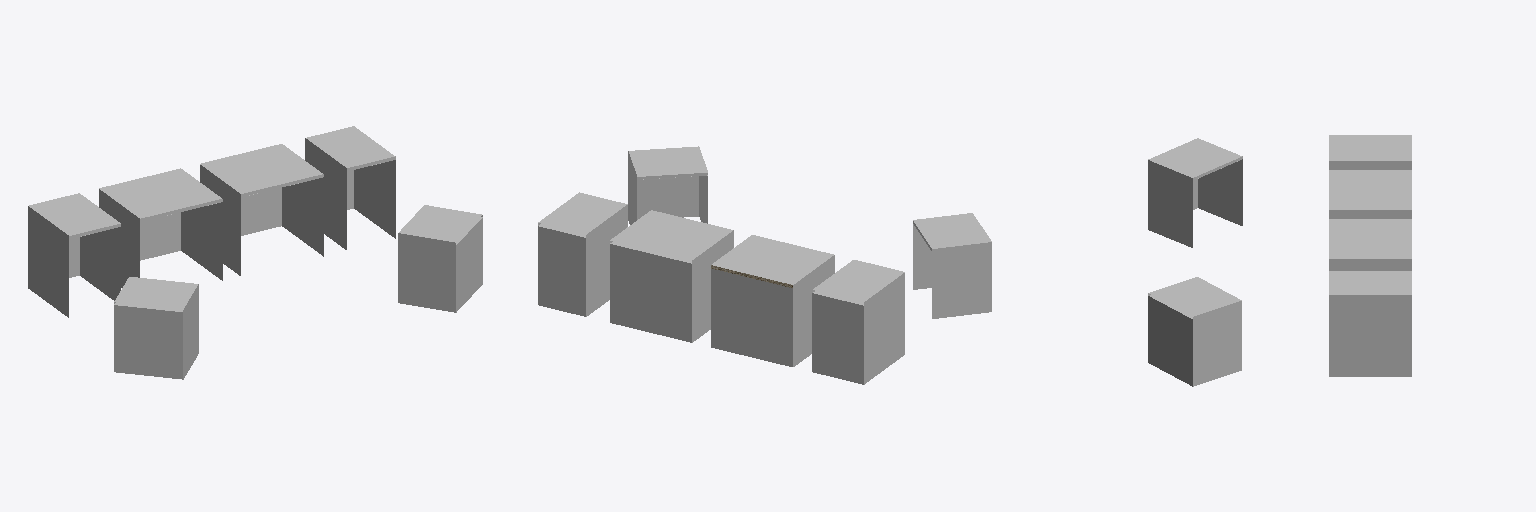
3 renders of one model, left to right at view 1: azimuth 30°, elevation 25°; view 2: azimuth 150°, elevation 25°; view 3: azimuth 270°, elevation 25°, orthographic.
Visible parts, largest first — view 1: Market.001; view 2: Market.001; view 3: Market.001.
Part boxes in pixels (x1,y1,x2,y2): Market.001: (28, 126, 482, 379); Market.001: (538, 146, 991, 384); Market.001: (1148, 135, 1411, 386).
Bounding box in the file's own units: 19.9 × 4.31 × 12.44.
Materials: 8 (4 with a texture image).